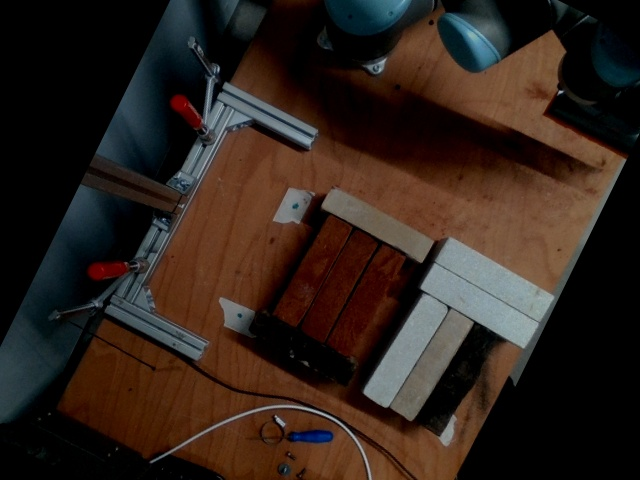brick-side: (364, 294, 449, 409), (437, 238, 553, 321), (421, 264, 537, 347), (391, 309, 473, 422), (417, 326, 498, 435), (326, 246, 404, 355), (274, 218, 352, 326), (300, 232, 378, 340), (249, 312, 355, 387), (324, 189, 431, 261)
